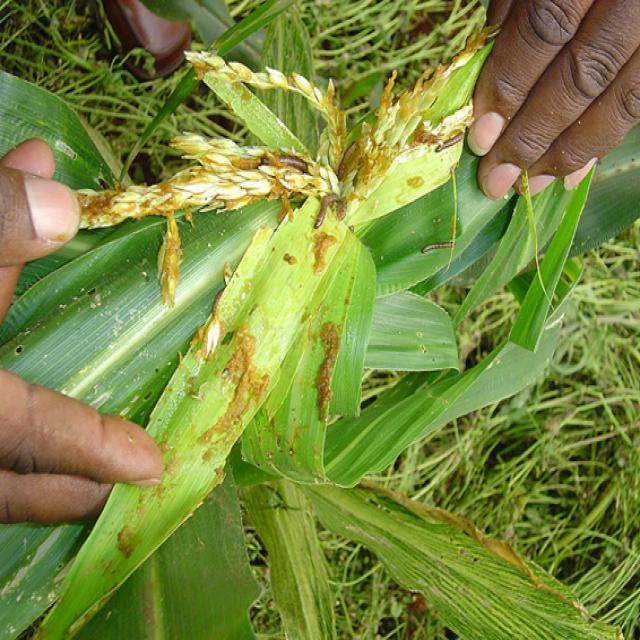cornborer-Larva-: (251, 148, 314, 177), (314, 190, 348, 240), (332, 137, 362, 188), (411, 233, 463, 260), (428, 128, 467, 152)
